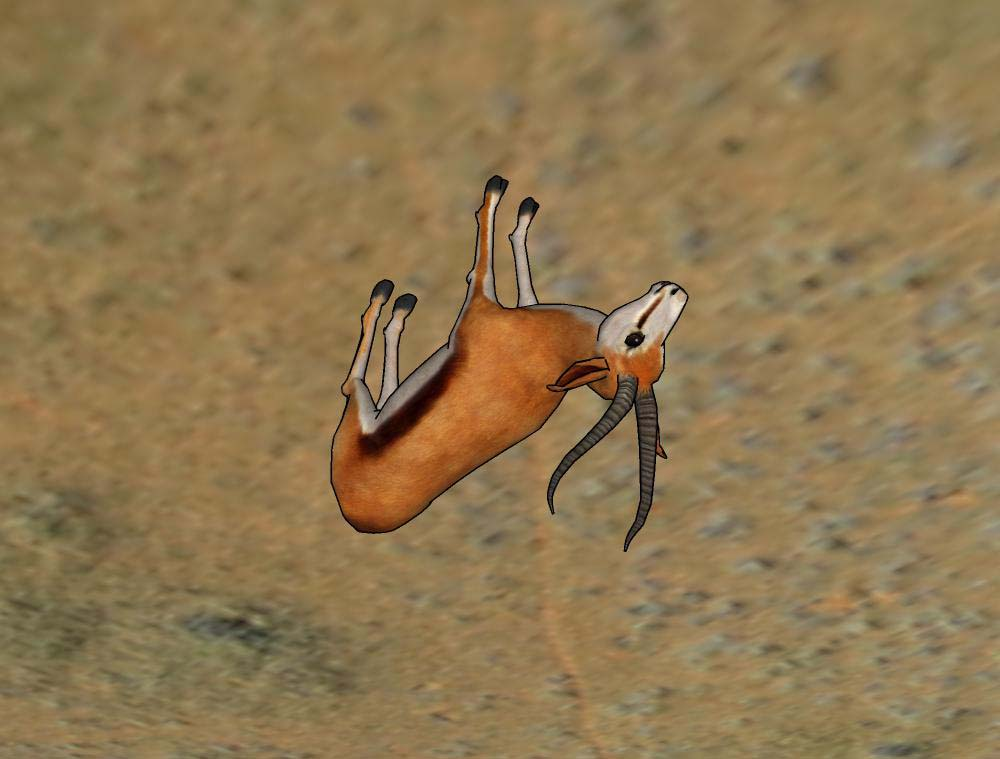springbok: (325, 173, 691, 577)
